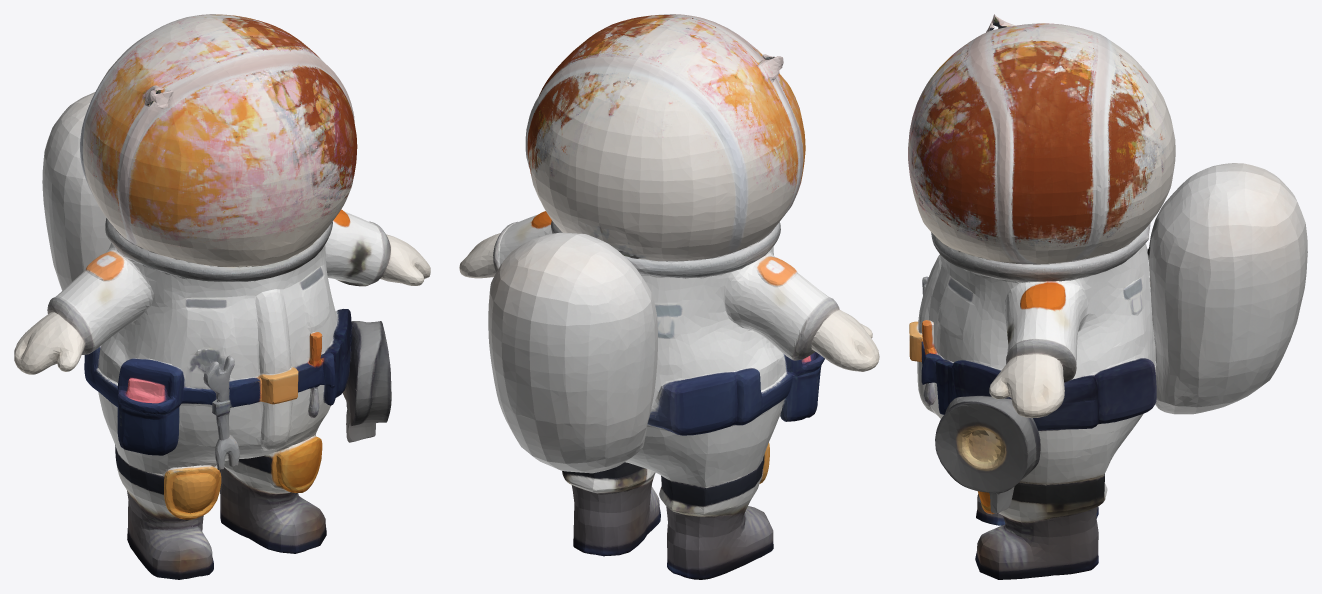
File: rumi_trellis_body.glb
3 renders of one model, left to right at view 1: azimuth 30°, elevation 25°; view 2: azimuth 150°, elevation 25°; view 3: azimuth 270°, elevation 25°, orthographic. The views are drawn at different scales.
Visible parts, largest first — view 1: world; view 2: world; view 3: world.
Boxes of the visible parts, bbox=[...] form: world: bbox=[14, 14, 430, 579]; world: bbox=[459, 14, 879, 579]; world: bbox=[908, 14, 1307, 579].
Size of the model in its own units: 0.8339 by 0.9988 by 0.7193.
1 material, 1 textured.
